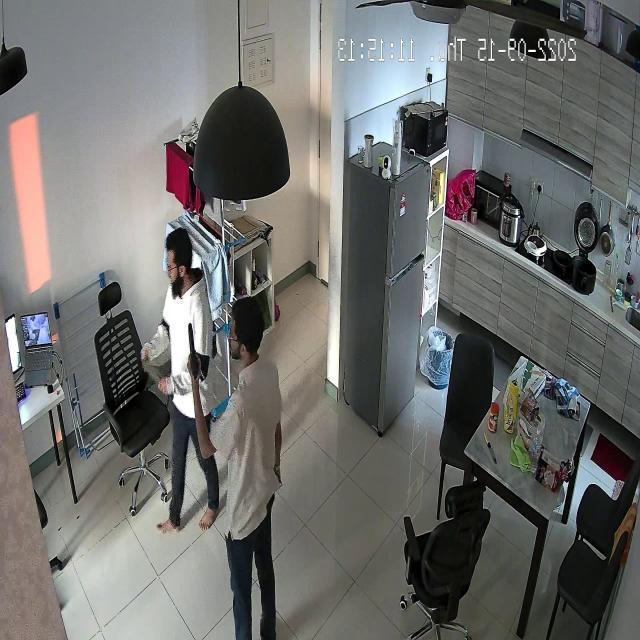Gun: (183, 318, 216, 380)
